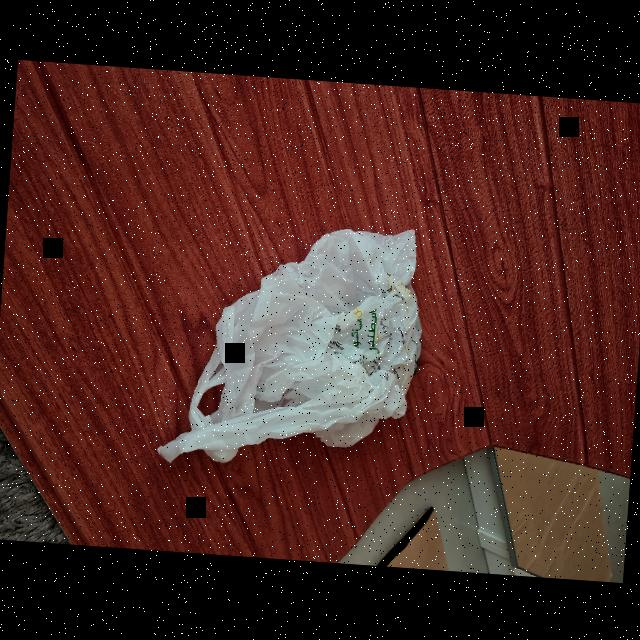plastic_bag: (162, 214, 422, 474)
